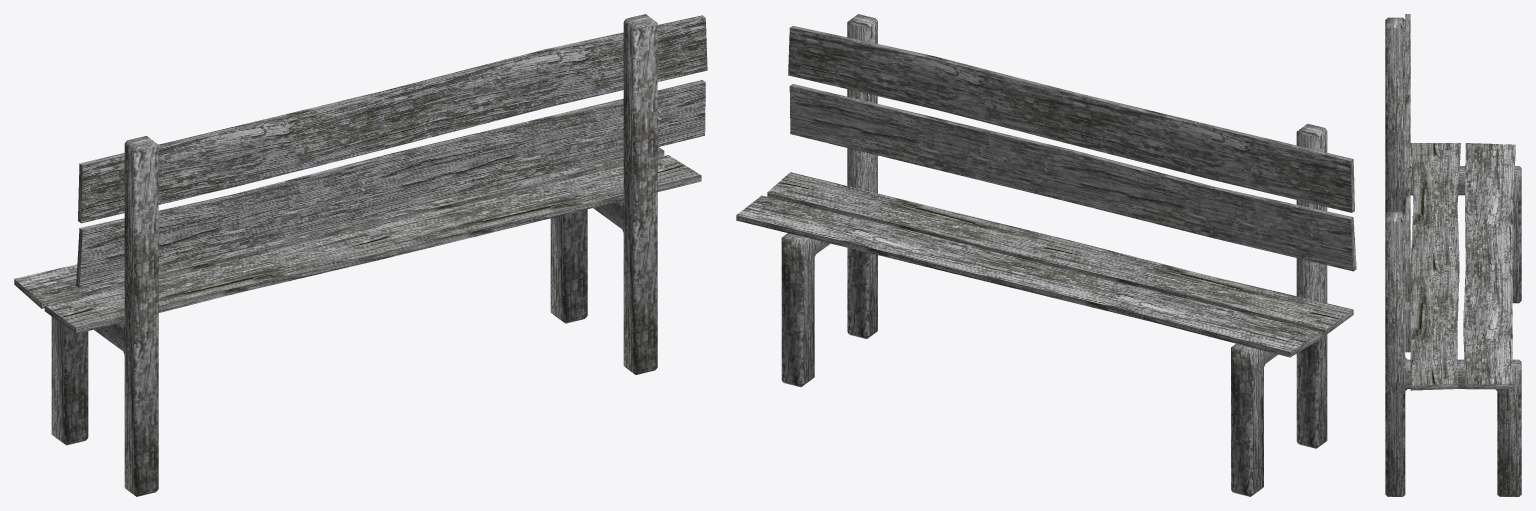
The model's file is bench_big_b_fbx.FBX.
3 renders of one model, left to right at view 1: azimuth 30°, elevation 25°; view 2: azimuth 150°, elevation 25°; view 3: azimuth 270°, elevation 25°, orthographic. The views are drawn at different scales.
Visible parts, largest first — view 1: bench_big_b; view 2: bench_big_b; view 3: bench_big_b.
Part boxes in pixels (x1,y1,x2,y2): bench_big_b: [14, 14, 707, 496]; bench_big_b: [736, 14, 1356, 496]; bench_big_b: [1385, 14, 1521, 496].
Bounding box in the file's own units: 237 × 55.92 × 126.
